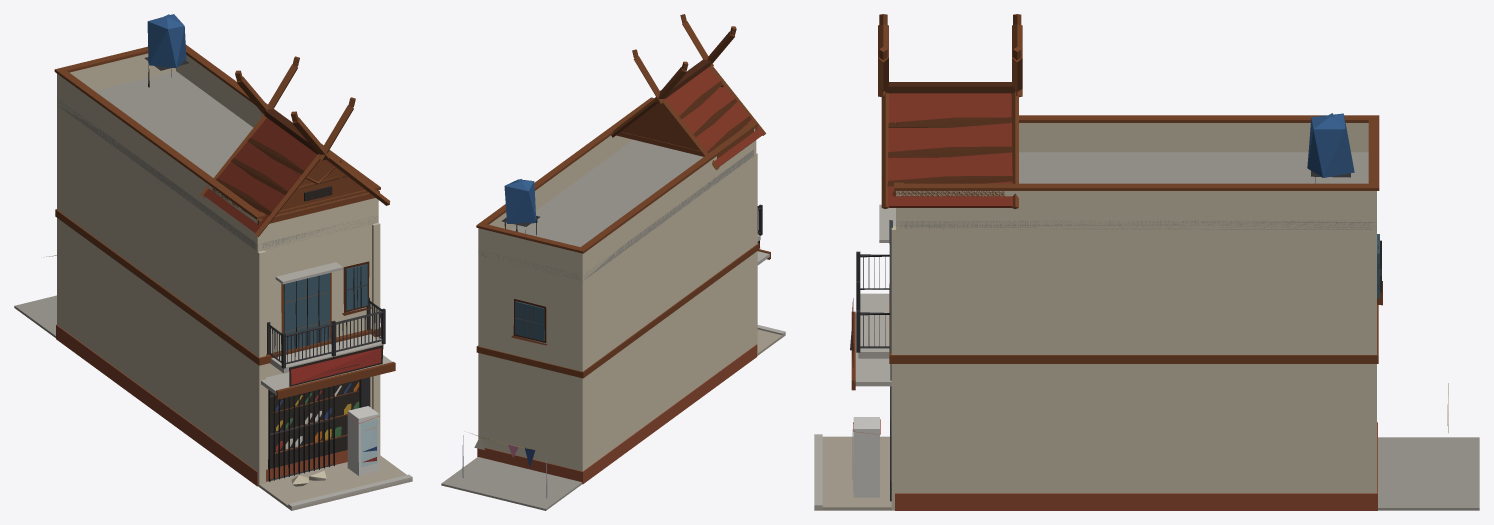
Rendered from bay1_mid2.glb.
3 views of the same model, side by side, from view 1: azimuth 30°, elevation 25°; view 2: azimuth 150°, elevation 25°; view 3: azimuth 270°, elevation 25° (orthographic). The views are drawn at different scales.
Visible parts, largest first — view 1: body, windows; view 2: body, windows; view 3: body.
Part boxes in pixels (x1,y1,x2,y2): body: (14, 14, 412, 510); windows: (268, 186, 367, 468); body: (441, 14, 785, 510); windows: (515, 301, 544, 341); body: (814, 14, 1479, 510).
Bounding box in the file's own units: 4.49 × 11.72 × 15.9.
